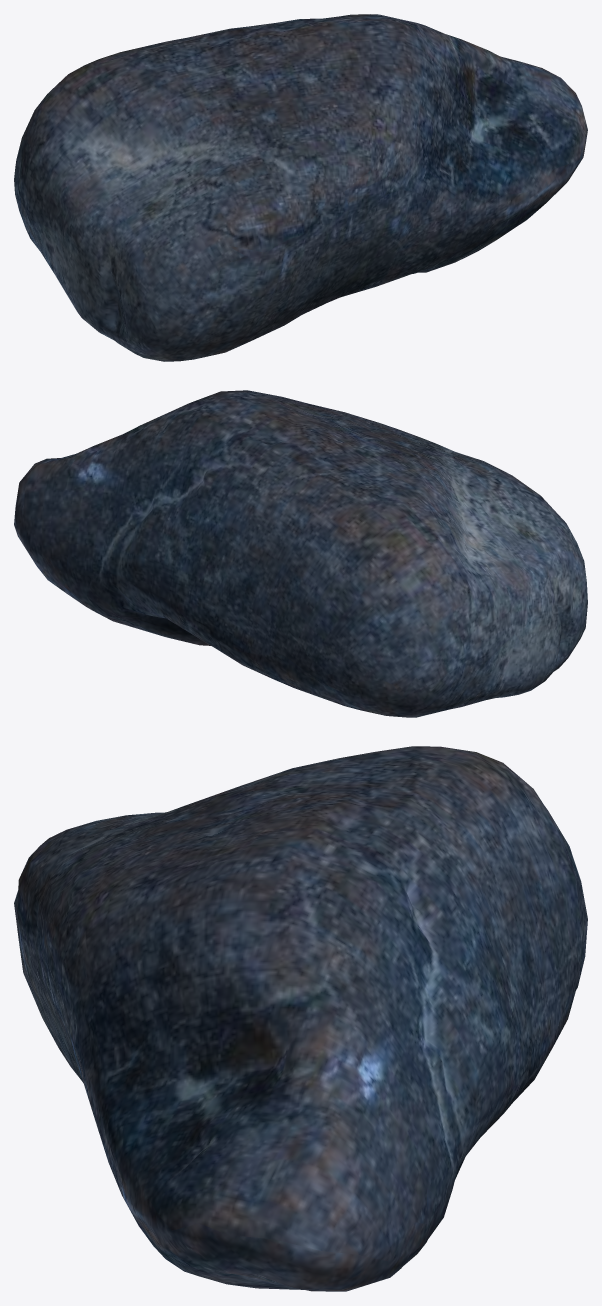
The model's file is st_river_stone.gltf.
3 views of the same model, one above another, from view 1: azimuth 30°, elevation 25°; view 2: azimuth 150°, elevation 25°; view 3: azimuth 270°, elevation 25° (orthographic). The views are drawn at different scales.
Parts seen in each view (by area): view 1: Model; view 2: Model; view 3: Model.
Part boxes in pixels (<box>): Model: <box>14,14,587,361</box>; Model: <box>14,390,587,717</box>; Model: <box>14,746,587,1291</box>.
Size of the model in its own units: 0.1969 by 0.0907 by 0.1246.
1 material, 1 textured.
